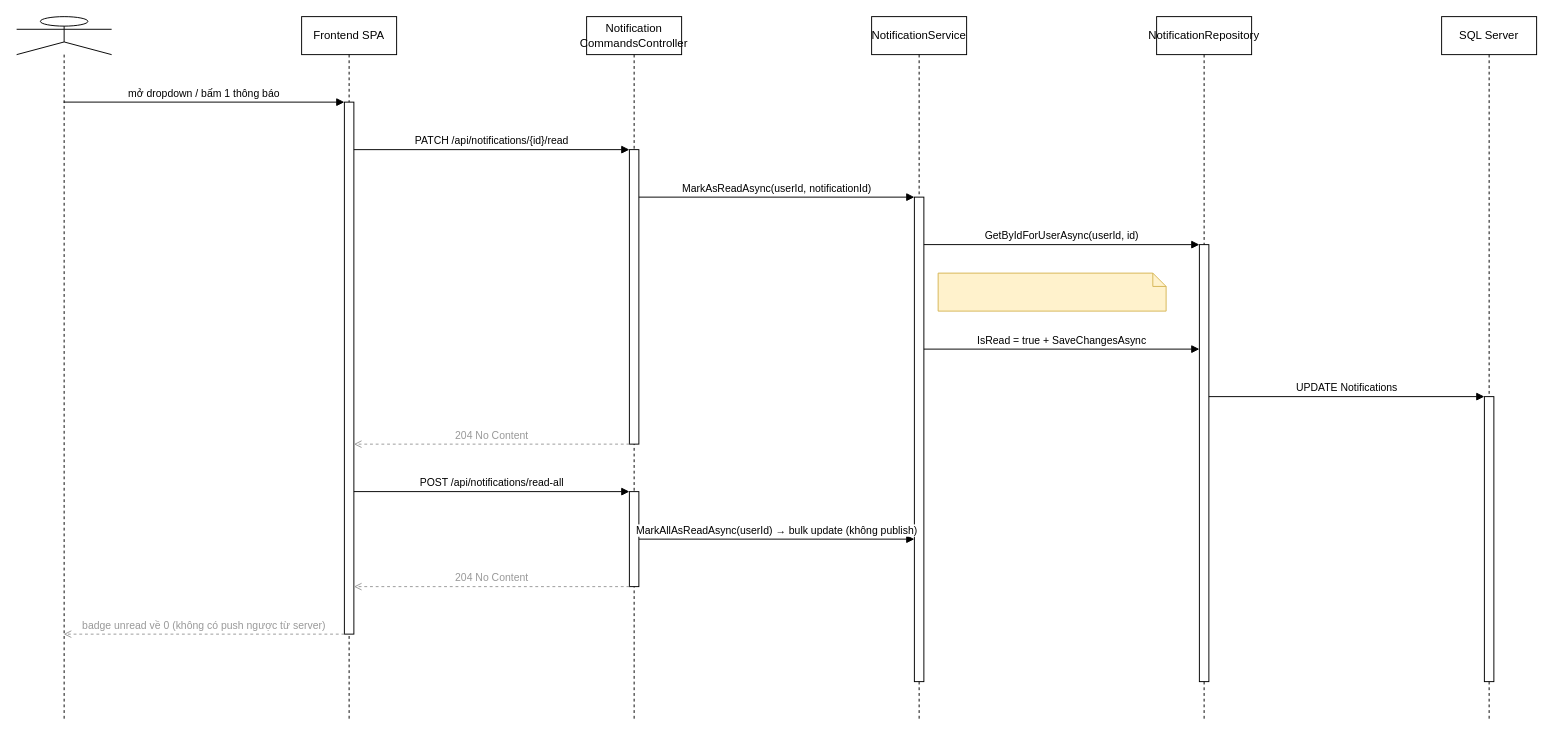
Image size: 1553x736. Some labels were removed from this diagram. Each missing label, with the box of its shape:
null → NotFoundException 404 (scope theo user) · đã IsRead → không save lại: (937, 272, 1166, 311)
User: (16, 16, 112, 720)
